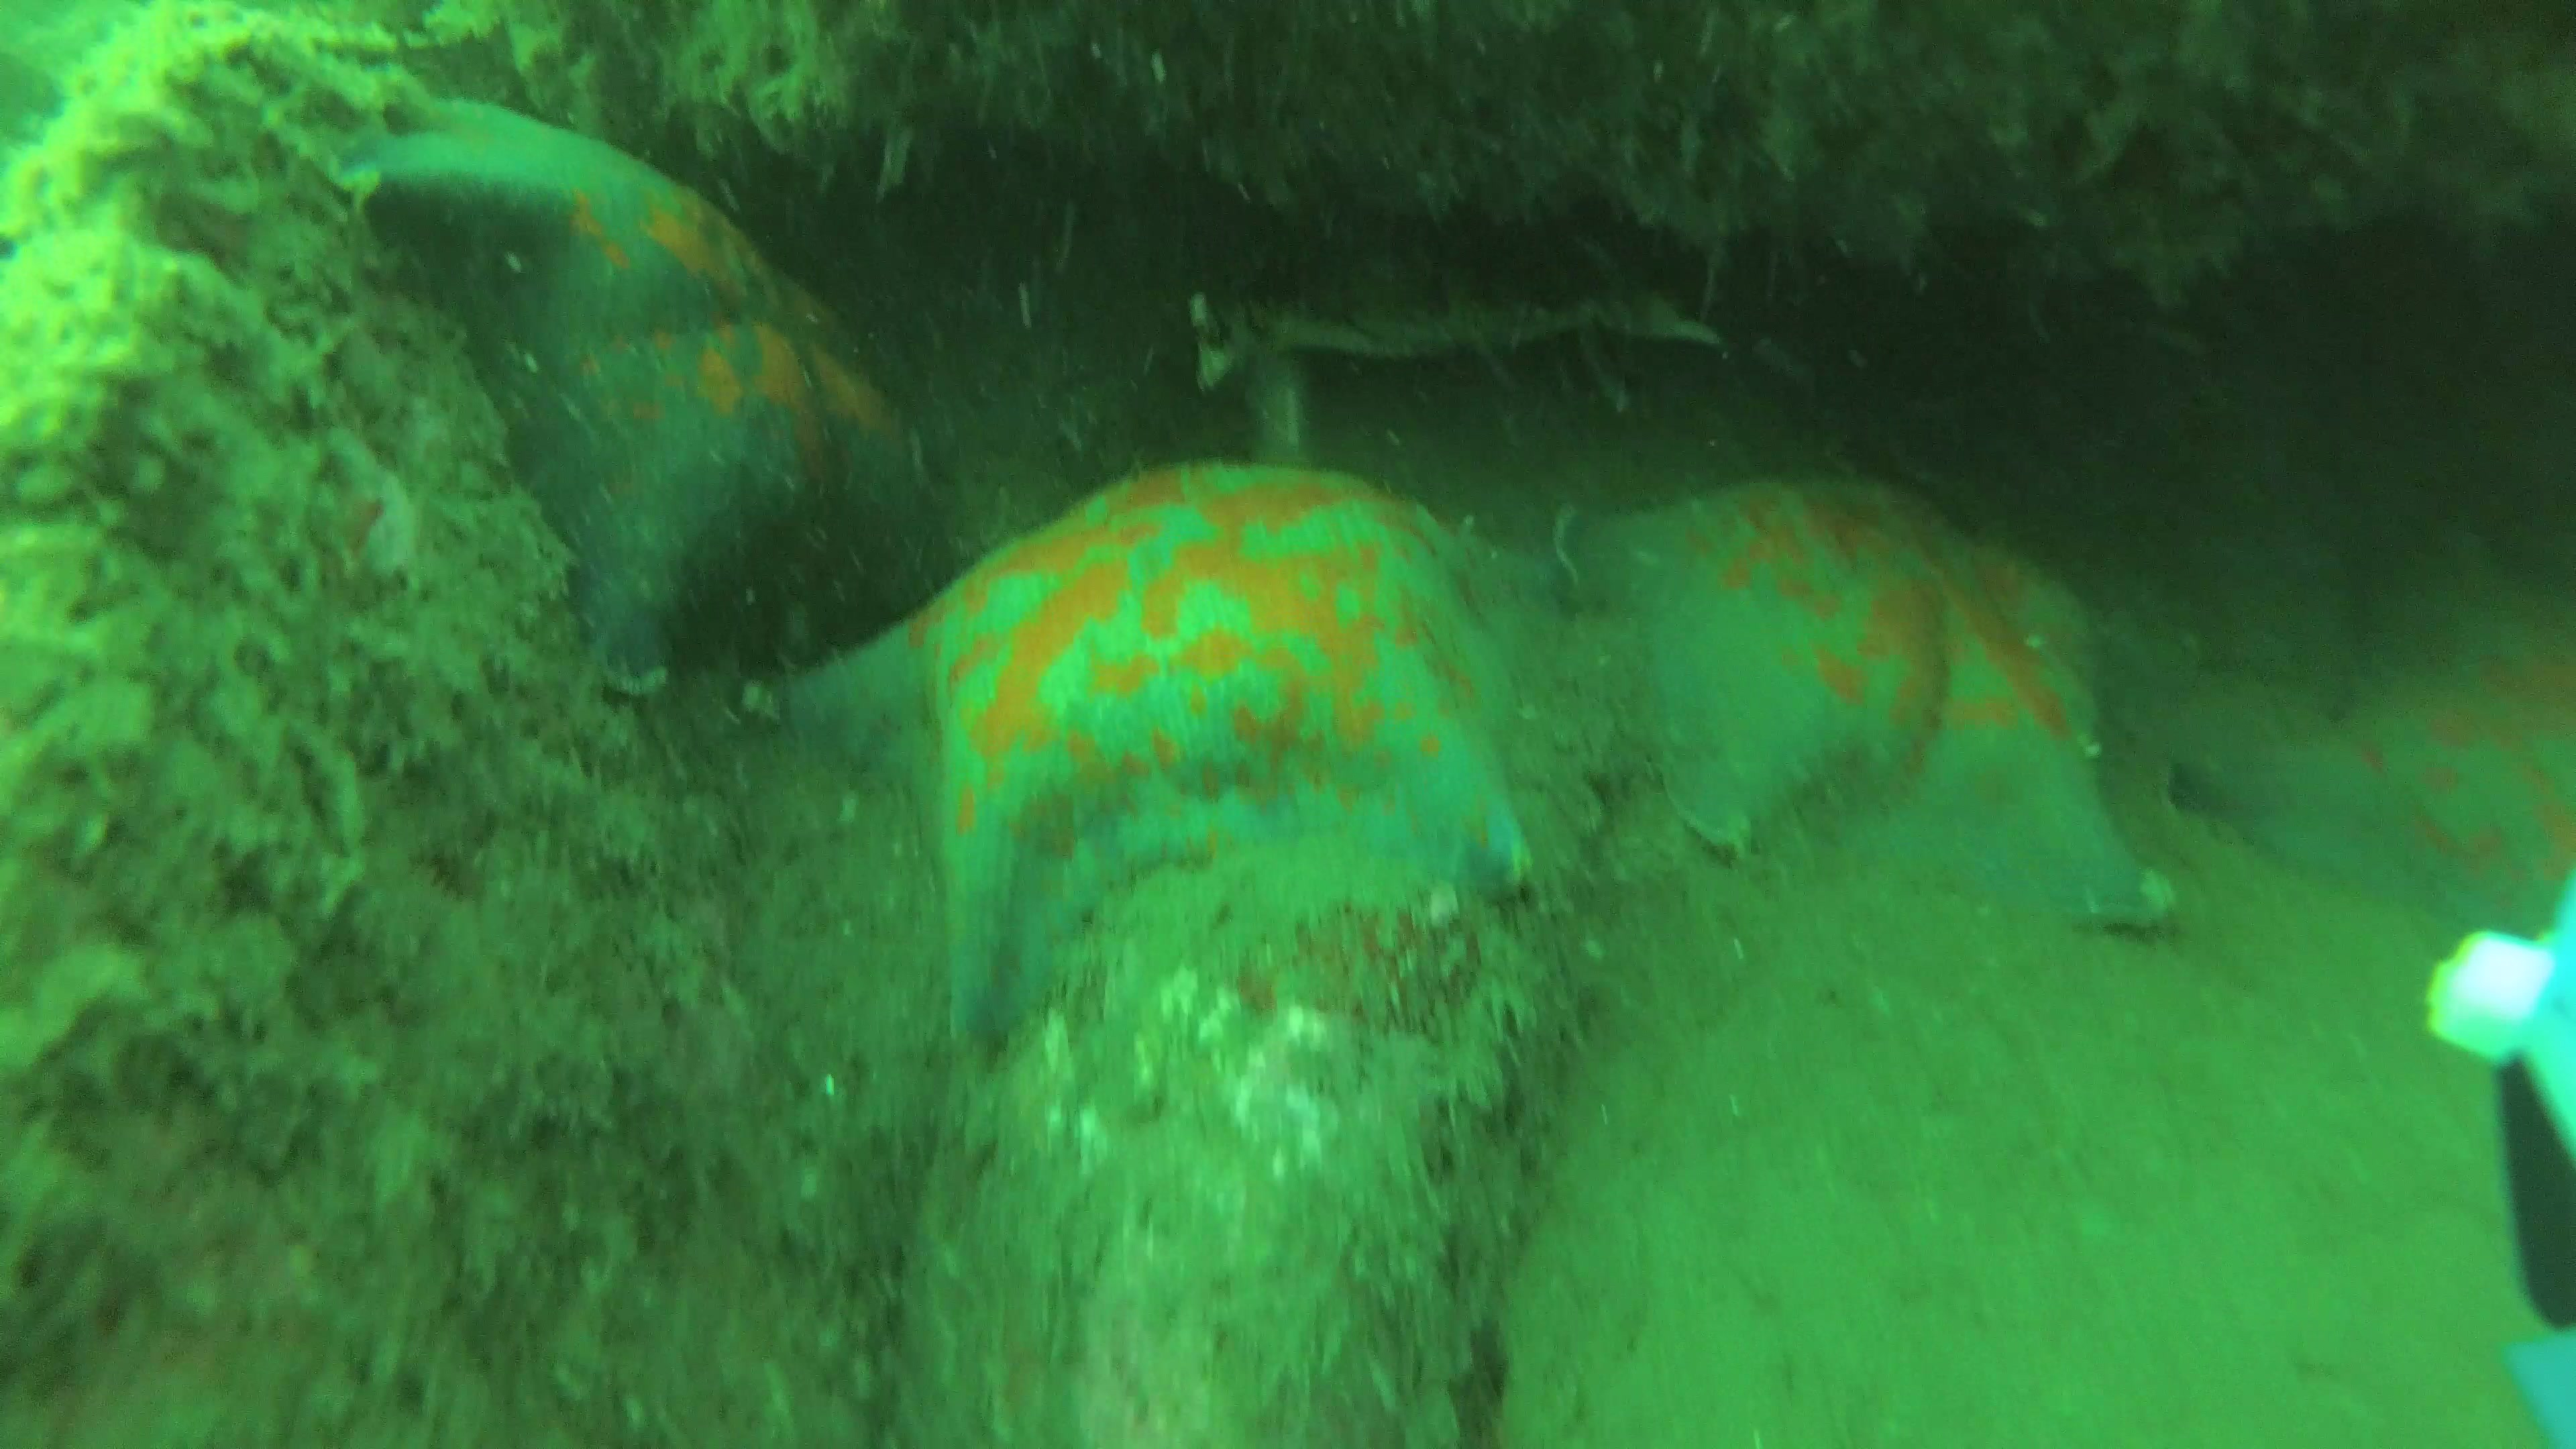starfish: (793, 455, 1529, 1049), (361, 73, 901, 708), (1557, 472, 2180, 936), (2199, 564, 2576, 950)
